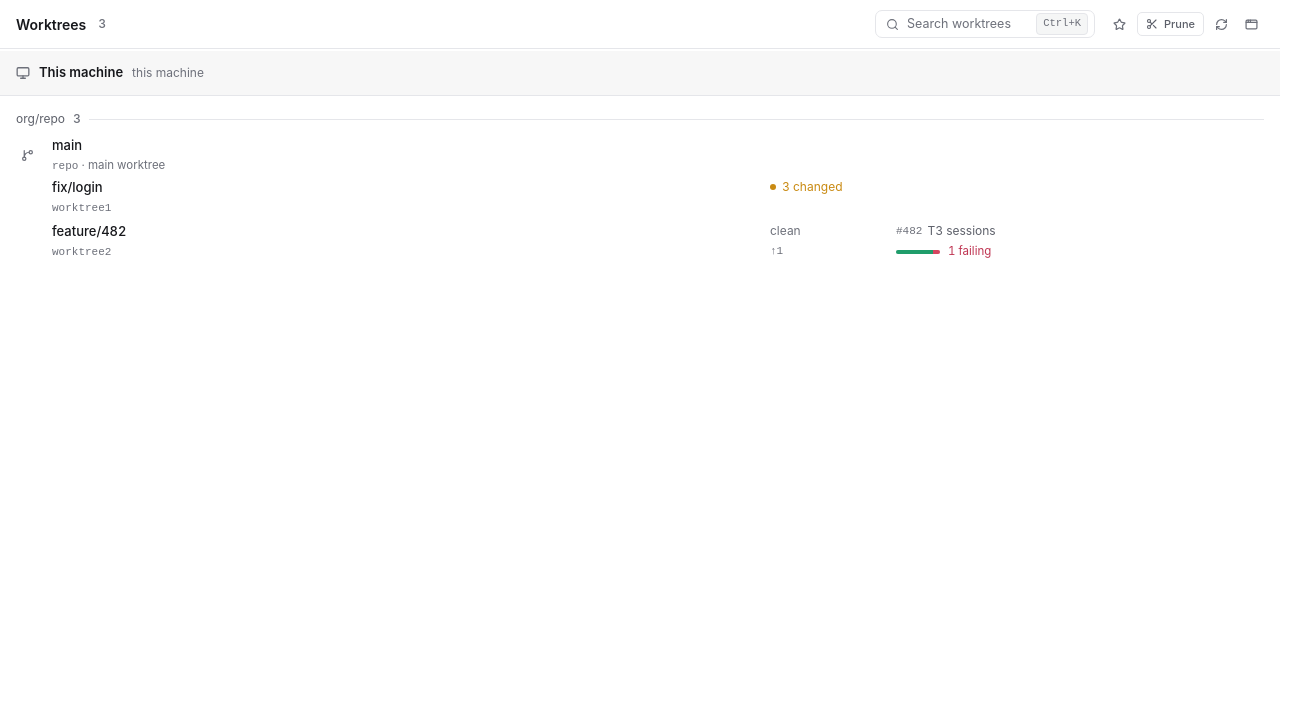
WorktreesSection › opens the row reached with Tab on Enter, not the one J/K selected
Press j
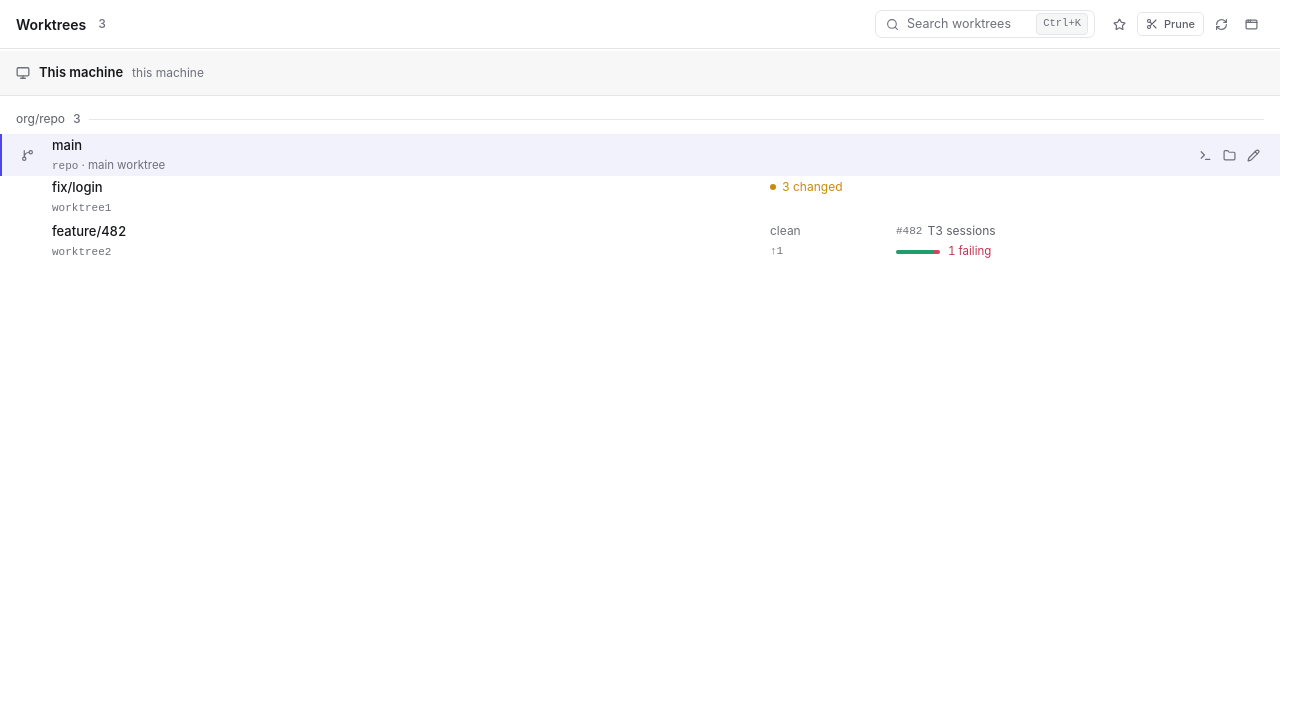
Press j
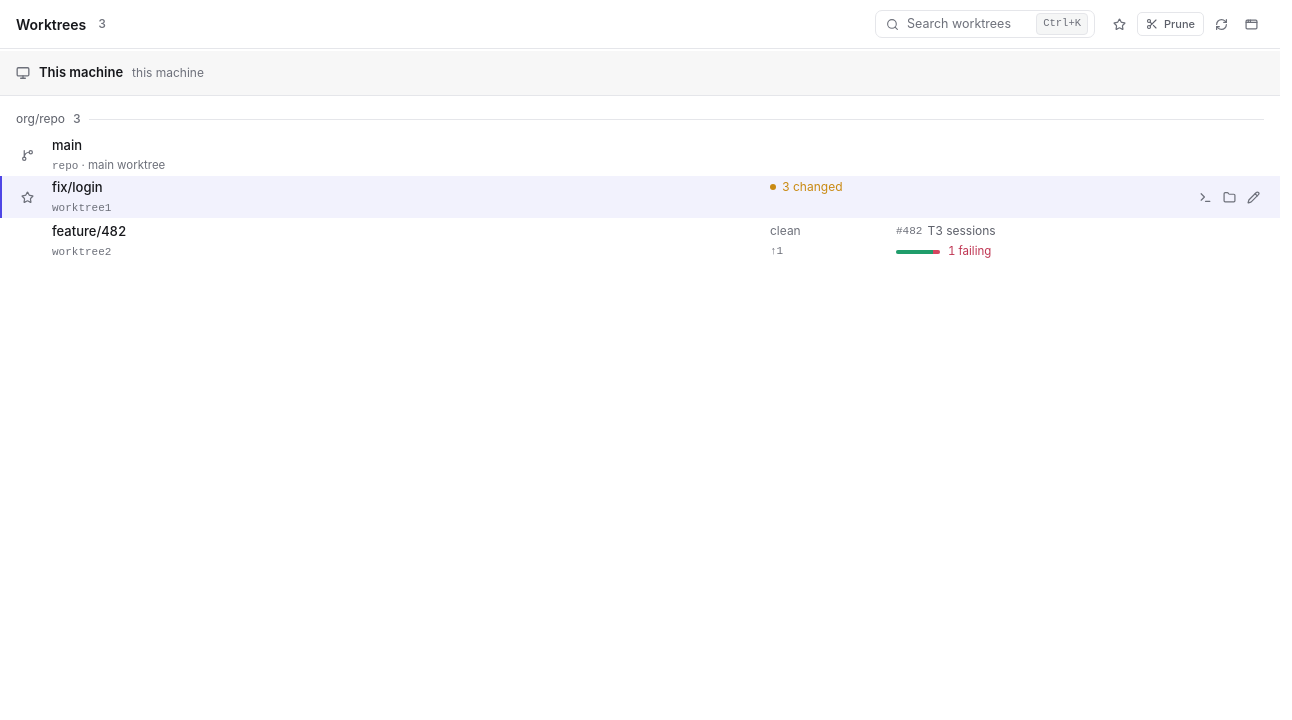
Press j
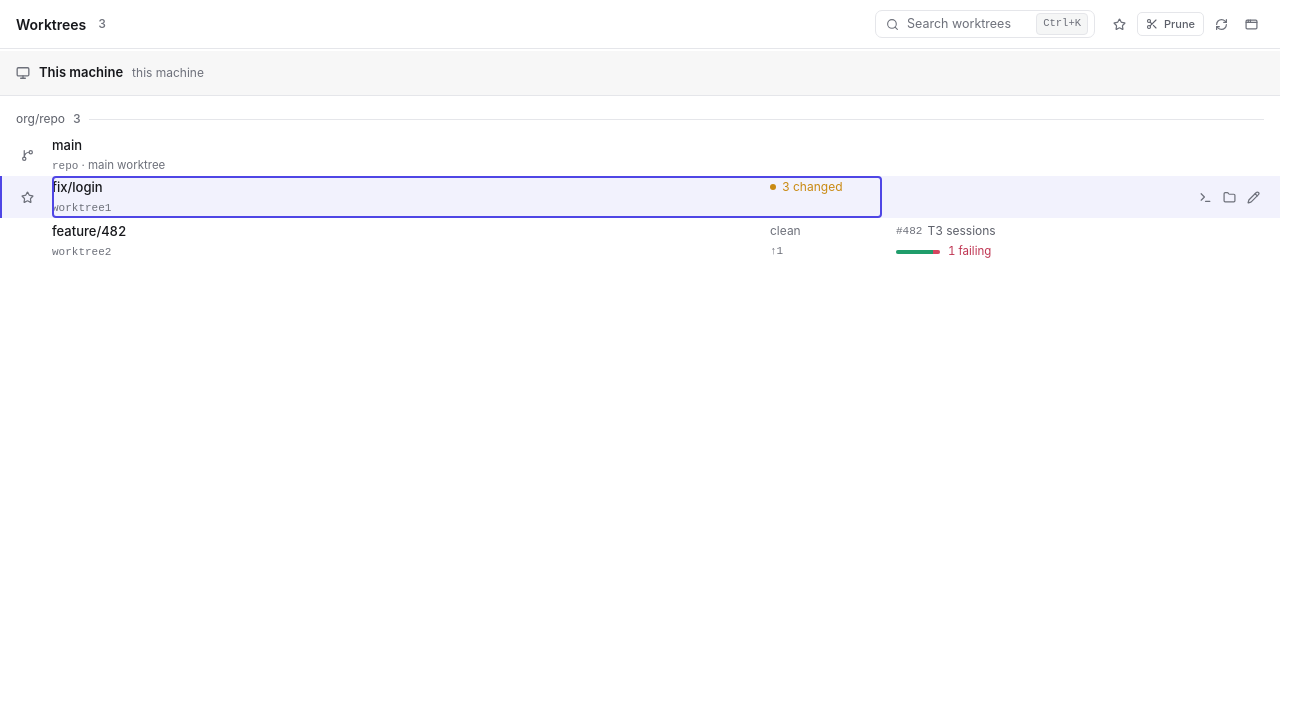
Press Enter in the button "fix/login worktree1 3 changed", box [52, 176, 882, 218]
Click the button "fix/login worktree1 3 changed" at point(77, 187), box [52, 176, 882, 218]
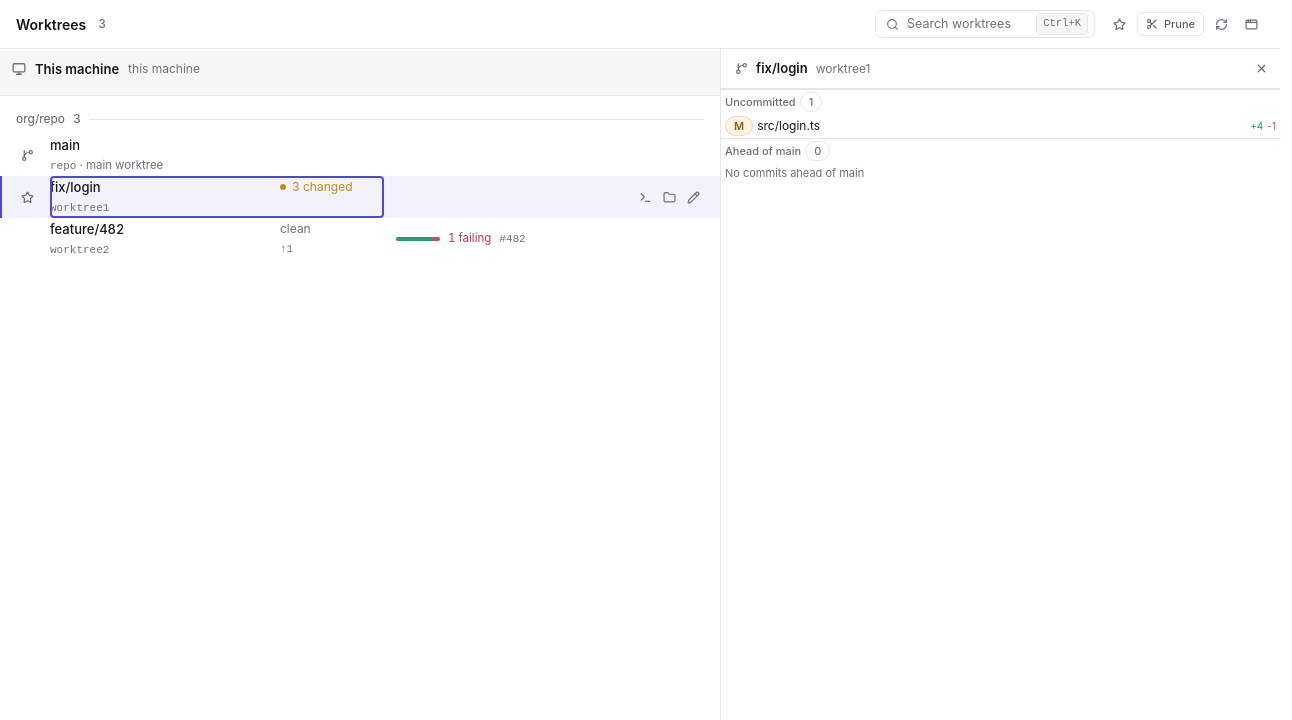
Result: the element named "Changes in fix/login" is shown at [720, 49, 1280, 719]
